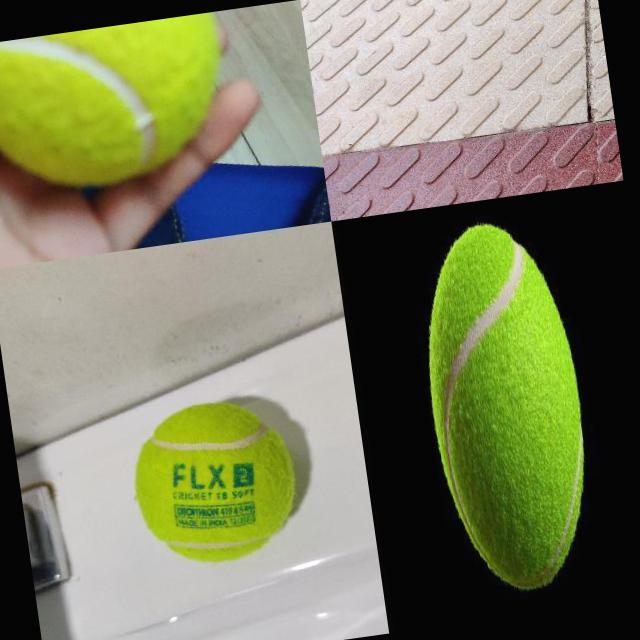Tennis Ball: (407, 214, 606, 600), (0, 12, 233, 201), (122, 393, 306, 574)
